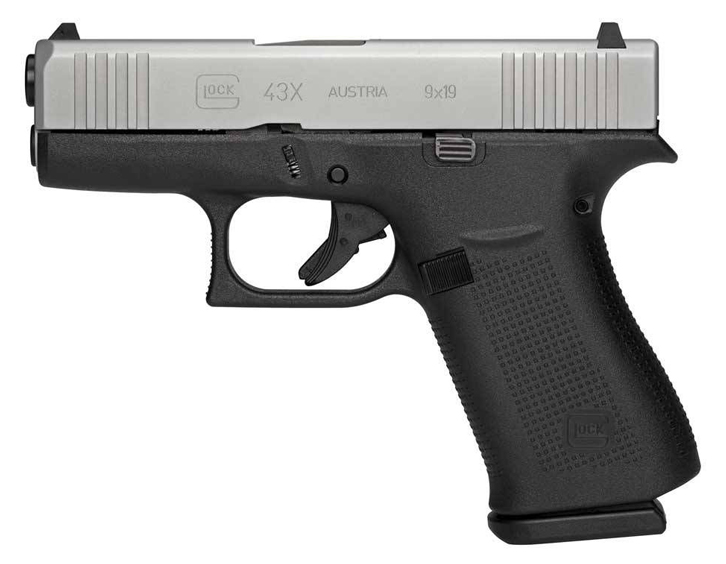gun: (15, 13, 712, 548)
